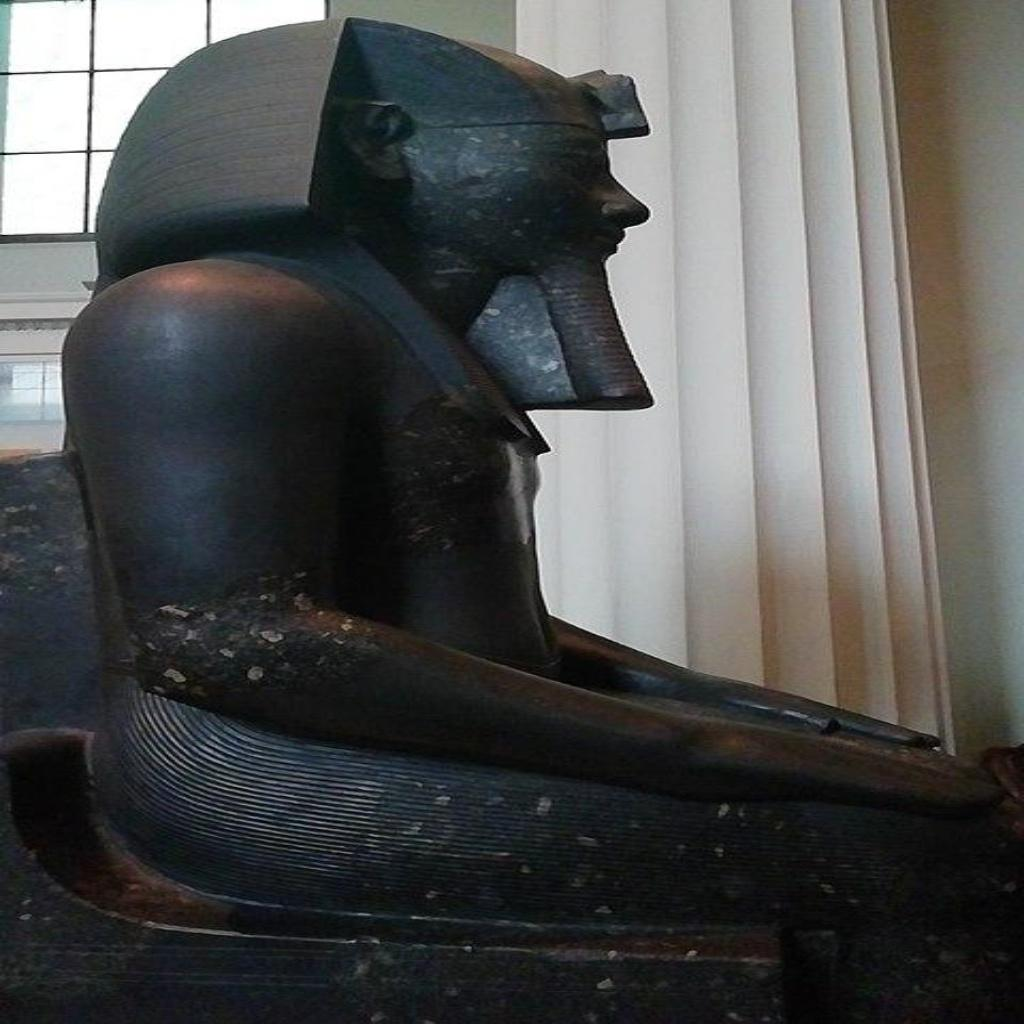Amenhotep III: (63, 16, 1009, 1008)
